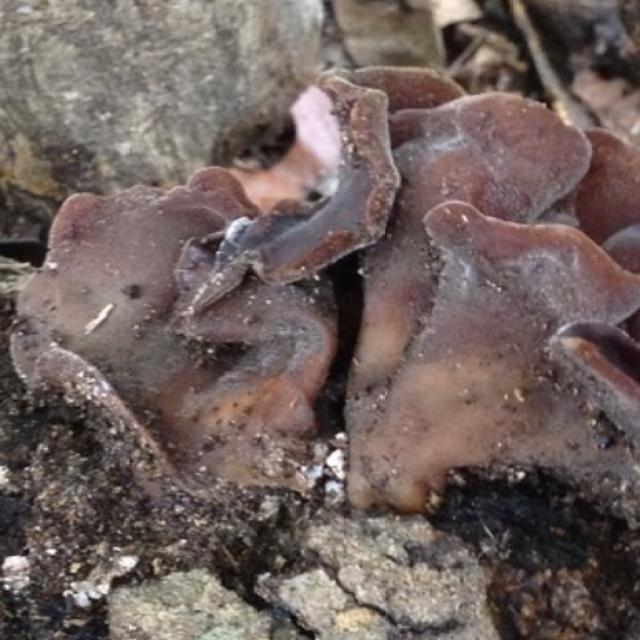Matang: (349, 83, 638, 524), (15, 185, 358, 539)
